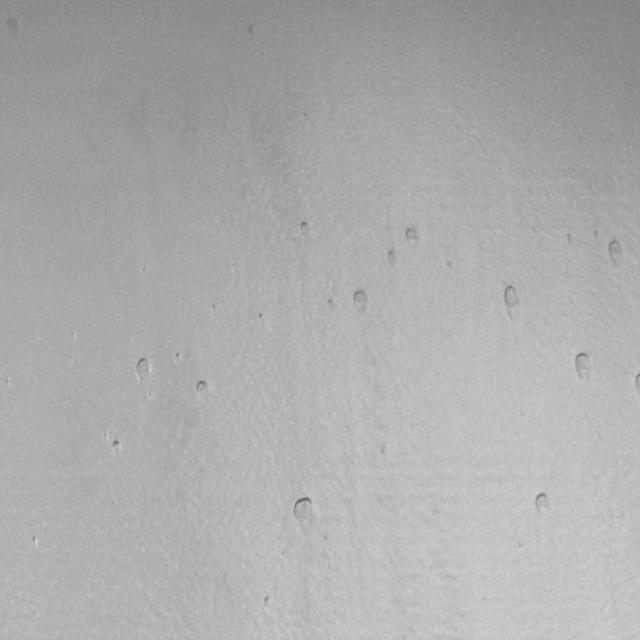pin holes: (290, 493, 318, 531), (603, 236, 630, 272), (499, 280, 524, 318), (571, 351, 596, 385), (531, 488, 553, 518), (351, 287, 374, 315), (133, 354, 154, 382), (4, 13, 23, 39), (402, 225, 421, 248), (385, 248, 403, 270), (193, 378, 212, 398), (563, 229, 579, 251), (112, 437, 127, 458), (298, 219, 313, 238), (262, 592, 275, 610), (444, 260, 457, 274), (172, 351, 184, 366), (29, 536, 41, 551), (630, 372, 639, 392), (207, 301, 219, 316), (326, 296, 337, 312), (257, 309, 268, 323), (379, 444, 388, 456), (248, 23, 254, 40), (518, 540, 524, 550), (104, 430, 108, 442), (148, 390, 153, 399), (324, 534, 328, 544)
